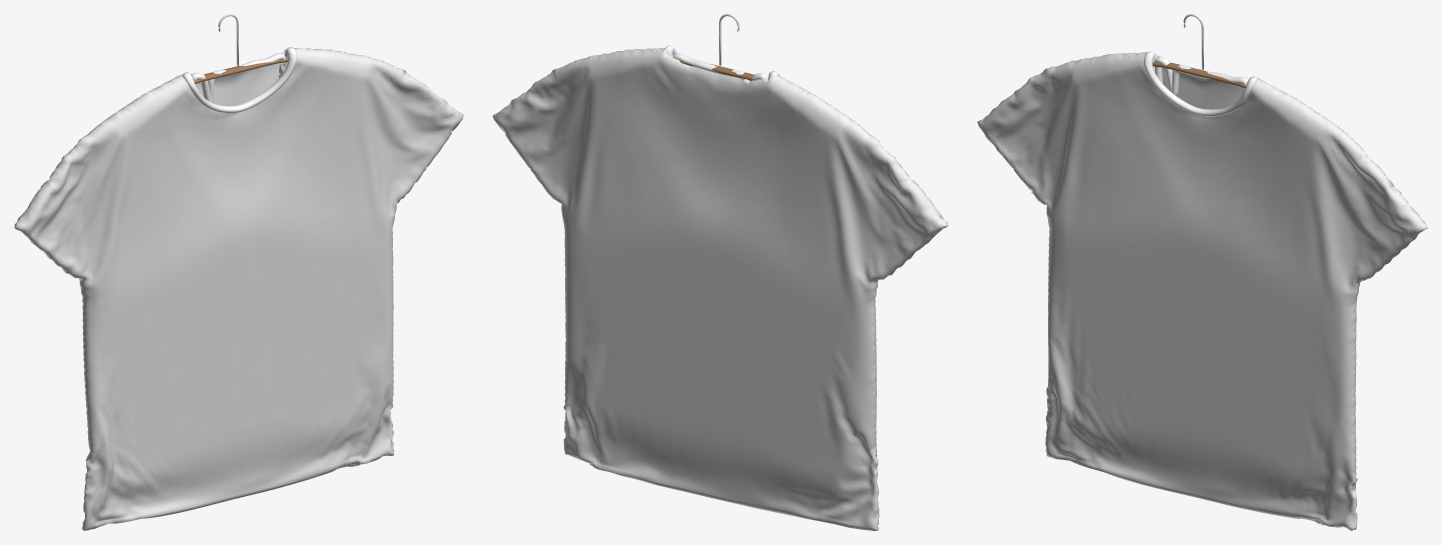
Rendered from oversized-v3.glb.
3 views of the same model, side by side, from view 1: azimuth 30°, elevation 25°; view 2: azimuth 150°, elevation 25°; view 3: azimuth 330°, elevation 25° (orthographic).
Parts seen in each view (by area): view 1: Shirt, Collar; view 2: Shirt, Collar; view 3: Shirt, Collar.
Boxes of the visible parts, x1=… form: Shirt: x1=14, y1=48, x2=463, y2=530; Collar: x1=182, y1=47, x2=296, y2=113; Shirt: x1=492, y1=48, x2=948, y2=530; Collar: x1=664, y1=45, x2=779, y2=80; Shirt: x1=977, y1=52, x2=1427, y2=530; Collar: x1=1143, y1=51, x2=1257, y2=116.
Size of the model in its own units: 0.8655 by 0.889 by 0.0497.
Materials: 4 (1 with a texture image).
